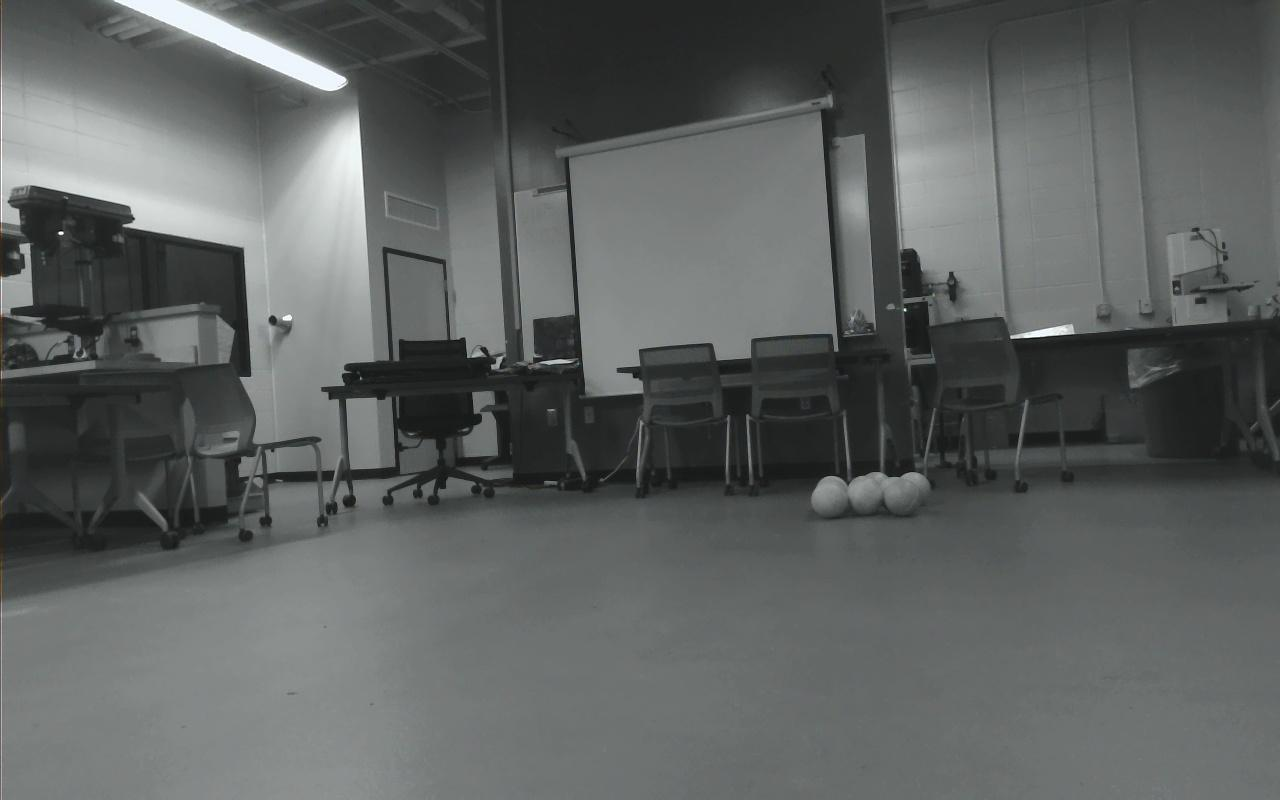Fuel: (846, 477, 883, 517), (884, 476, 920, 517), (812, 483, 847, 520), (849, 474, 884, 511), (899, 472, 932, 509), (860, 470, 888, 505), (879, 477, 907, 509), (814, 479, 848, 504), (817, 476, 847, 501)
